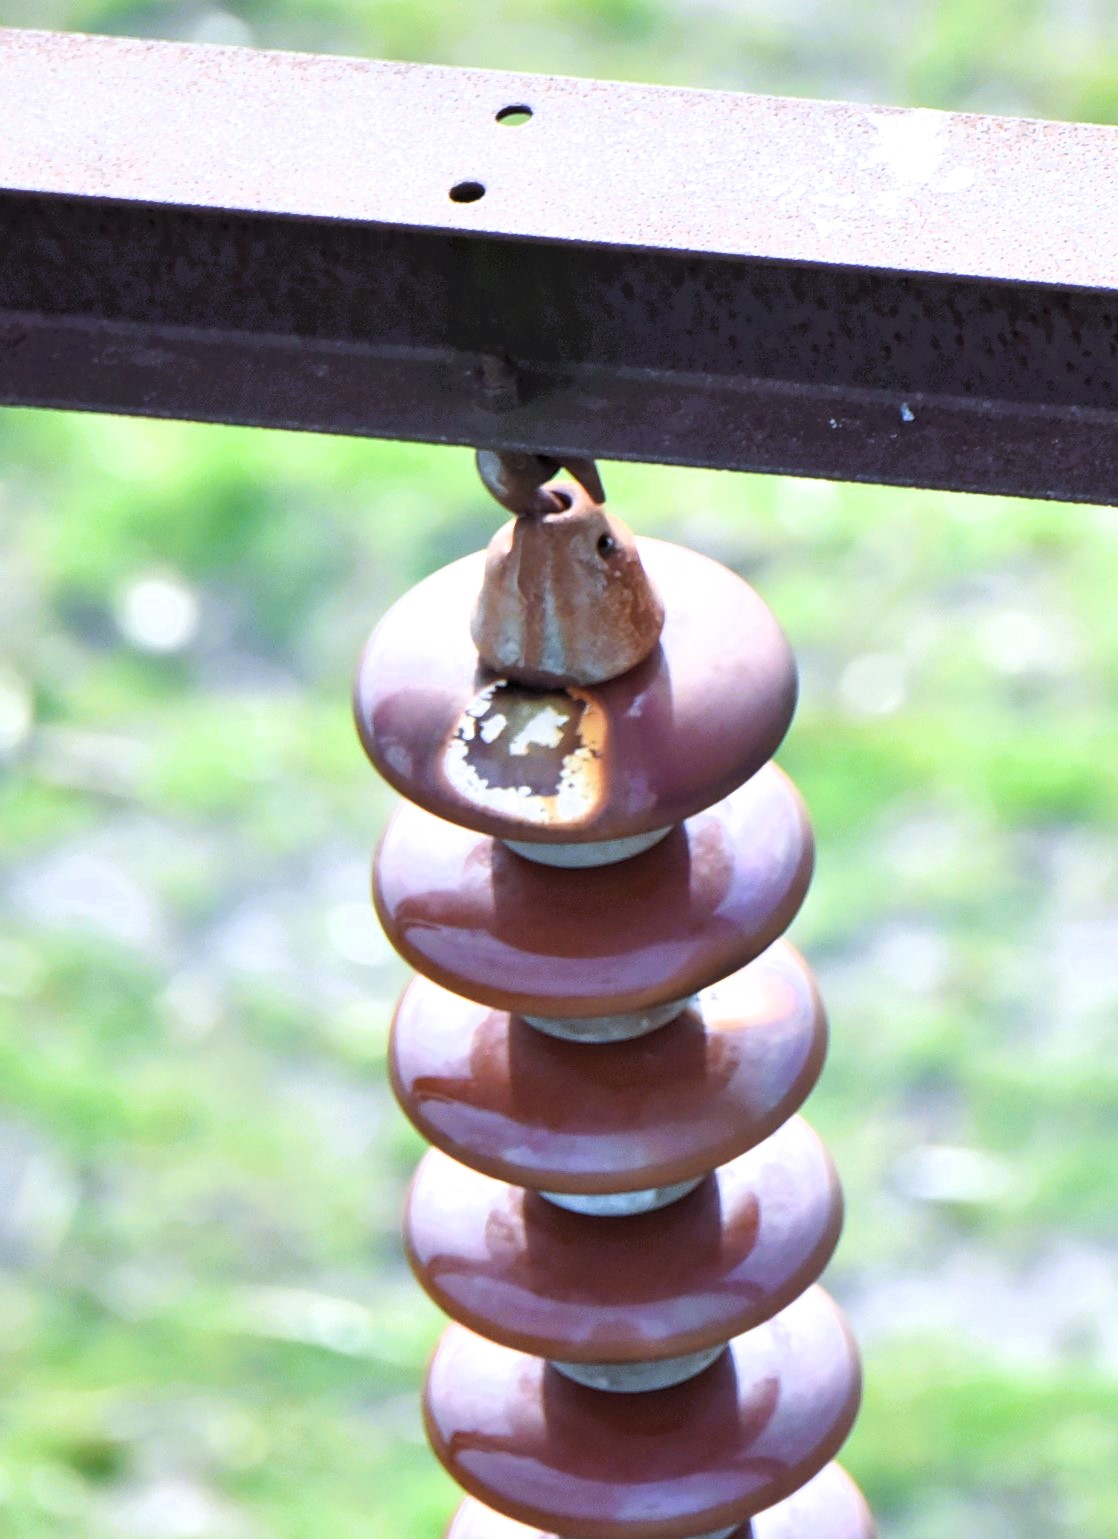Insulator flashover: (346, 505, 805, 850)
